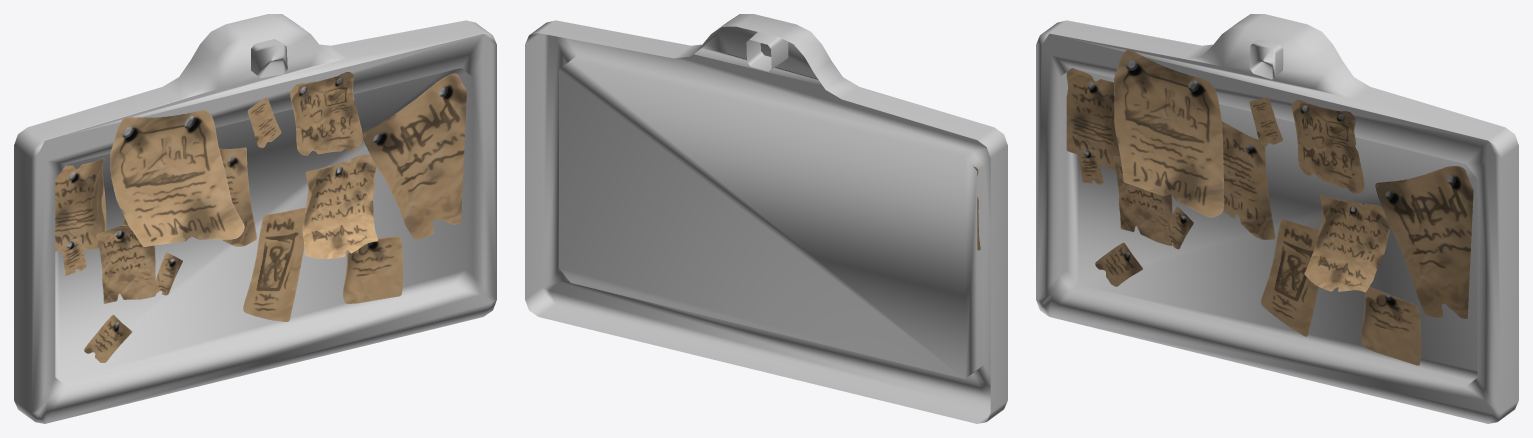
File: PosterBoard.fbx
The picture shows the model from 3 angles, left to right: view 1: azimuth 30°, elevation 25°; view 2: azimuth 150°, elevation 25°; view 3: azimuth 330°, elevation 25°; orthographic projection.
Visible parts, largest first — view 1: Mesh; view 2: Mesh; view 3: Mesh.
Boxes of the visible parts, x1,y1,x2,y2 form: Mesh: [14, 14, 496, 423]; Mesh: [525, 14, 1007, 423]; Mesh: [1036, 14, 1518, 423].
Bounding box in the file's own units: 261 × 192 × 36.
